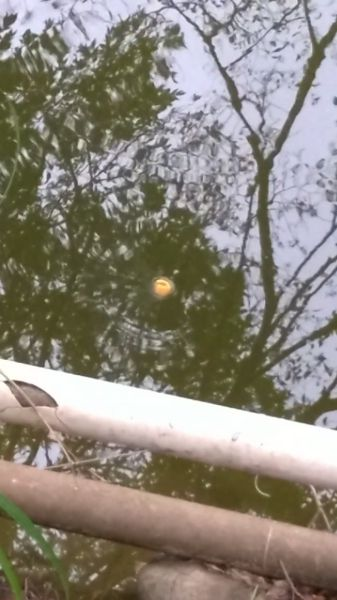eggs: (148, 274, 175, 300)
